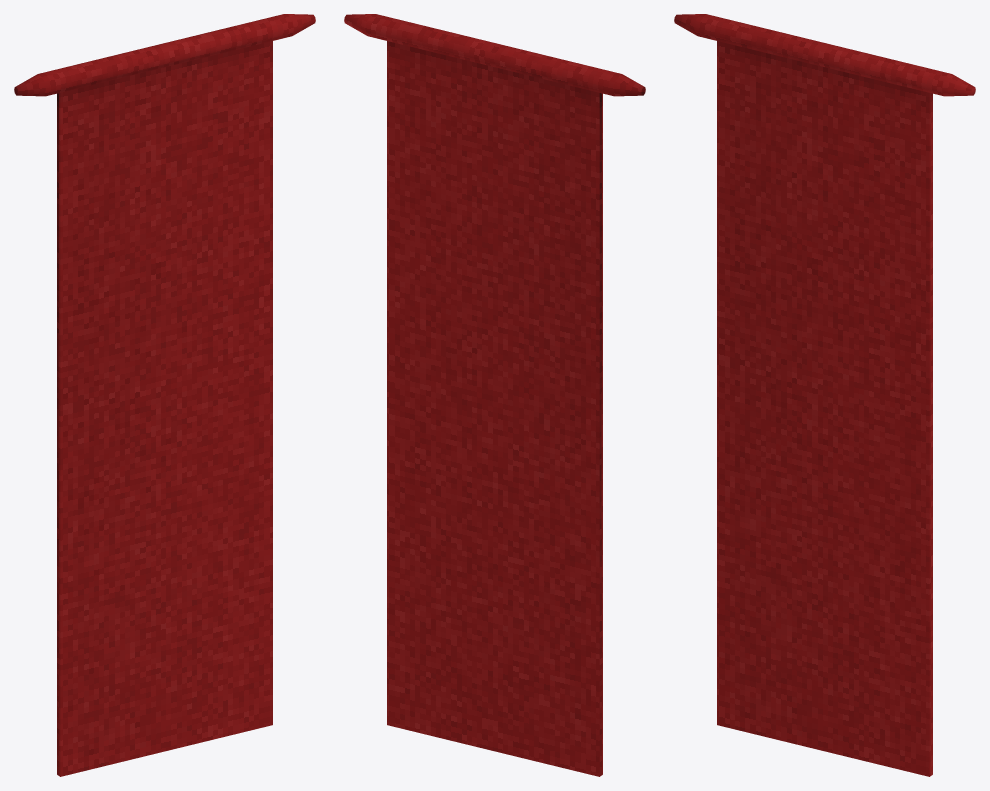
File: Banner_1.gltf
The picture shows the model from 3 angles, left to right: view 1: azimuth 30°, elevation 25°; view 2: azimuth 150°, elevation 25°; view 3: azimuth 330°, elevation 25°; orthographic projection.
Parts seen in each view (by area): view 1: Banner_1; view 2: Banner_1; view 3: Banner_1.
Boxes of the visible parts, x1,y1,x2,y2 form: Banner_1: (14, 14, 315, 776); Banner_1: (344, 14, 645, 776); Banner_1: (674, 14, 975, 776).
Size of the model in its own units: 2.79 by 6.34 by 0.2004.
Materials: 1 (1 with a texture image).
